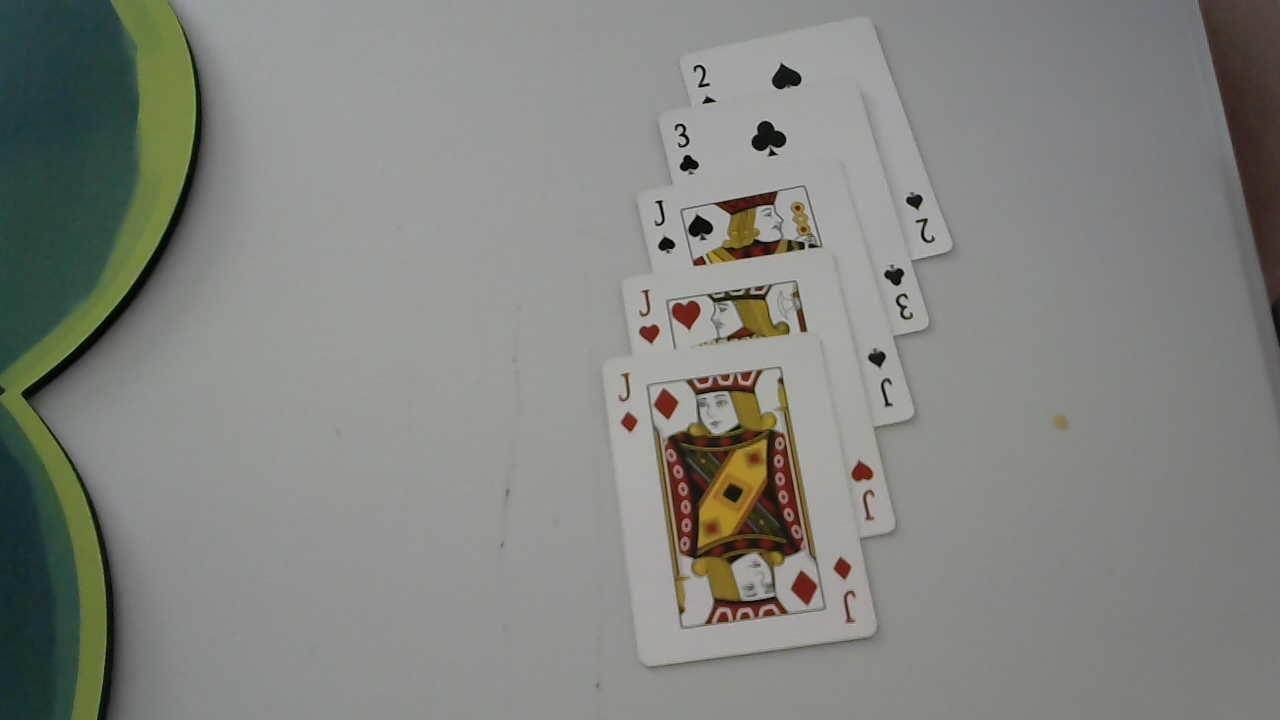2S: (903, 182, 952, 250)
3C: (875, 260, 917, 325), (668, 117, 704, 181)
JD: (828, 556, 863, 623), (615, 369, 640, 440)
JH: (845, 454, 882, 531), (629, 286, 663, 346)
JS: (863, 343, 899, 414), (648, 195, 681, 267)
